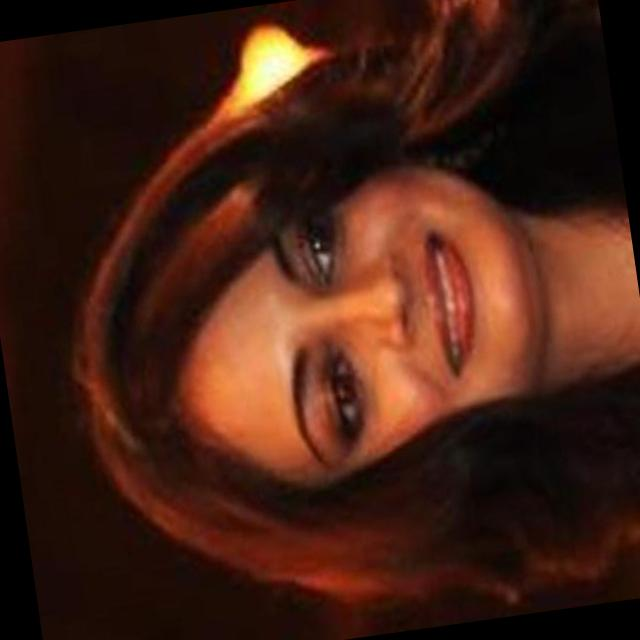bareface: (81, 108, 536, 590)
